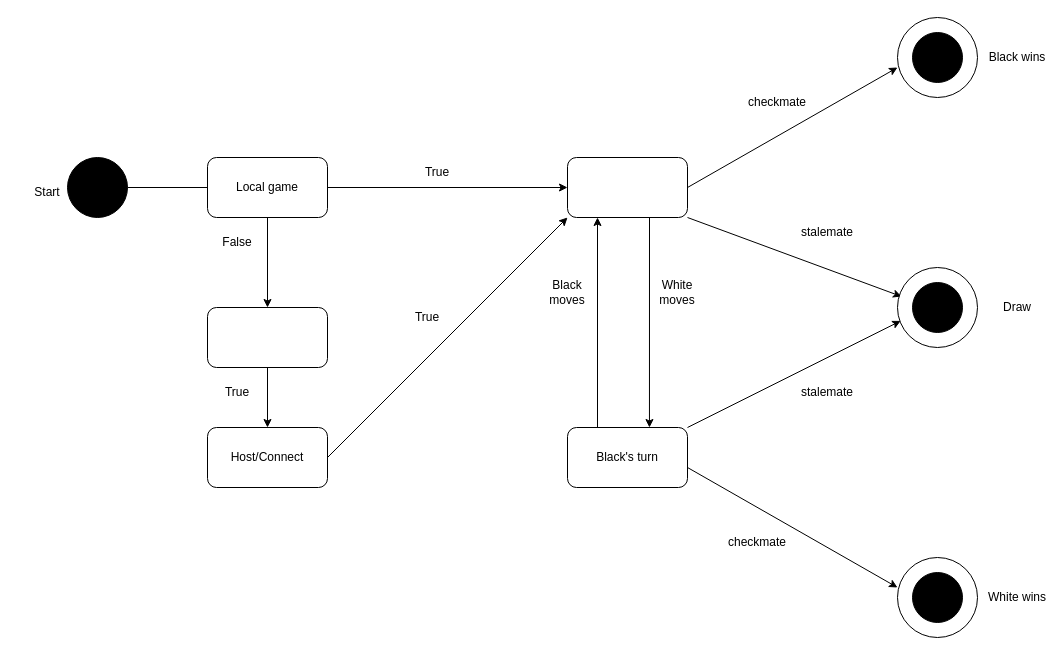
Some shapes in this 1064 by 655 pixel diagram are drawn without their labels. Each missing label, with the centre of its shape:
"Online Game" goes at pixel 267 337.
"White's turn" goes at pixel 627 187.
